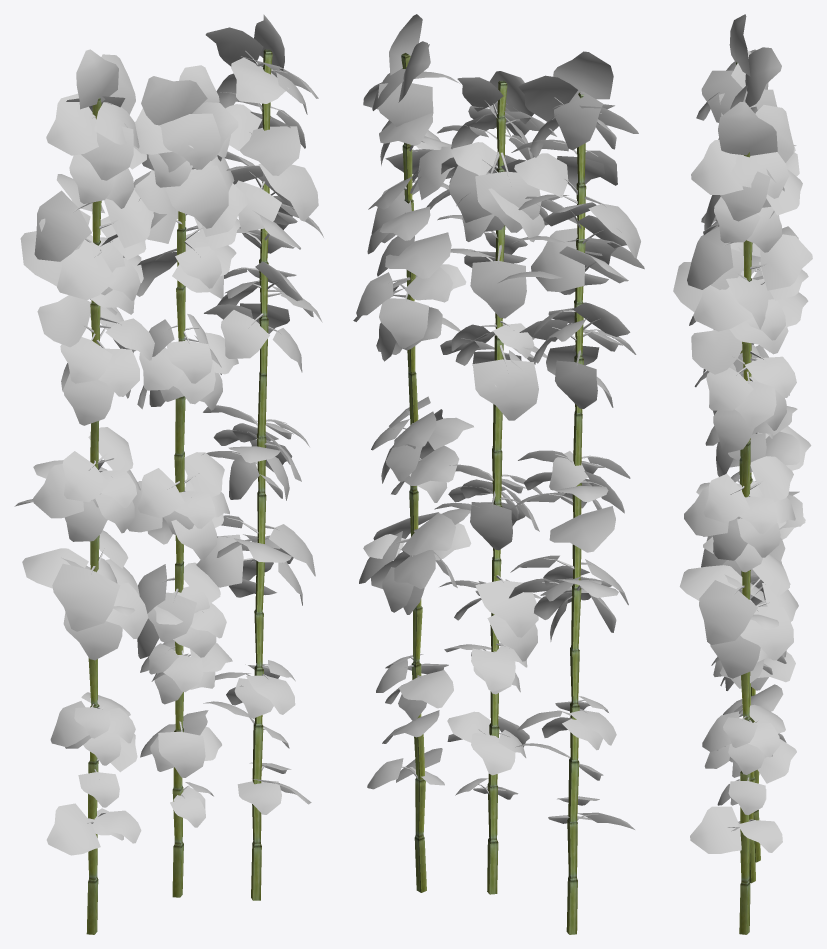
File: D_Tree_002_c.fbx
The picture shows the model from 3 angles, left to right: view 1: azimuth 30°, elevation 25°; view 2: azimuth 150°, elevation 25°; view 3: azimuth 270°, elevation 25°; orthographic projection. The views are drawn at different scales.
Visible parts, largest first — view 1: D_Tree_002_c_leaf, D_Tree_002_c; view 2: D_Tree_002_c_leaf, D_Tree_002_c; view 3: D_Tree_002_c_leaf, D_Tree_002_c.
Boxes of the visible parts, x1,y1,x2,y2 form: D_Tree_002_c_leaf: (14, 14, 323, 855); D_Tree_002_c: (86, 49, 272, 934); D_Tree_002_c_leaf: (353, 14, 644, 829); D_Tree_002_c: (401, 53, 586, 934); D_Tree_002_c_leaf: (673, 14, 812, 853); D_Tree_002_c: (736, 62, 760, 934).
Bounding box in the file's own units: 1.77 × 5.34 × 0.805.
